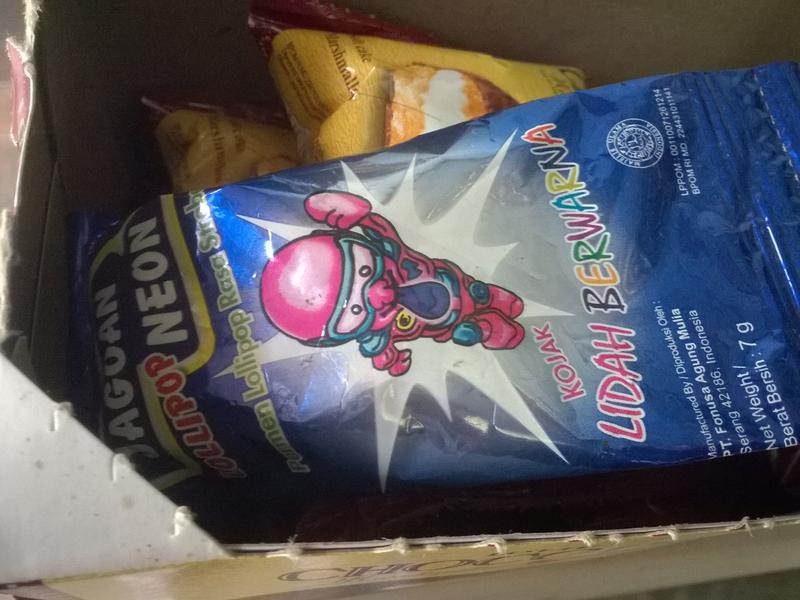jagoan neon: (59, 68, 800, 515)
